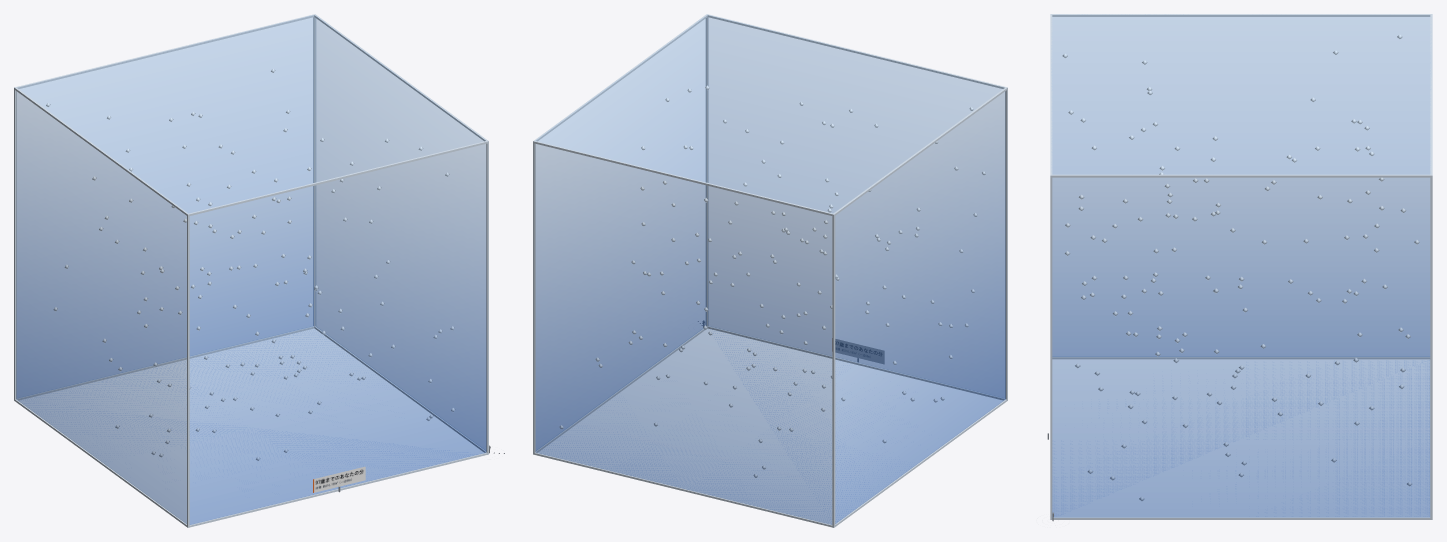
The model's file is cube_life_97.glb.
3 views of the same model, side by side, from view 1: azimuth 30°, elevation 25°; view 2: azimuth 150°, elevation 25°; view 3: azimuth 270°, elevation 25° (orthographic). The views are drawn at different scales.
Visible parts, largest first — view 1: co2, edge, dots, label; view 2: co2, edge, dots, label; view 3: co2, edge, dots.
Boxes of the visible parts, x1,y1,x2,y2 form: co2: [16, 15, 486, 524]; edge: [14, 14, 488, 527]; dots: [46, 68, 455, 460]; label: [313, 466, 365, 492]; co2: [535, 15, 1005, 524]; edge: [533, 14, 1007, 527]; dots: [559, 85, 985, 477]; label: [835, 339, 884, 363]; co2: [1052, 15, 1430, 517]; edge: [1050, 14, 1432, 519]; dots: [1062, 34, 1419, 501].
Size of the model in its own units: 71.9 by 68.13 by 71.
8 materials, 3 textured.
